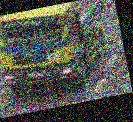truck: (0, 0, 122, 106)
